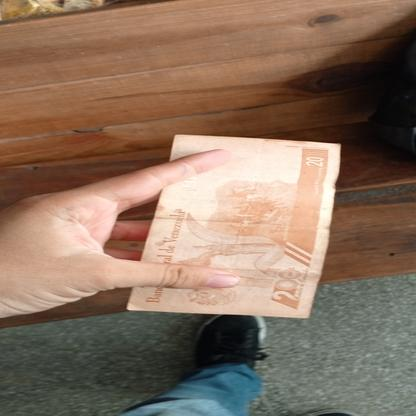twenty-back-vef: (126, 134, 340, 319)
